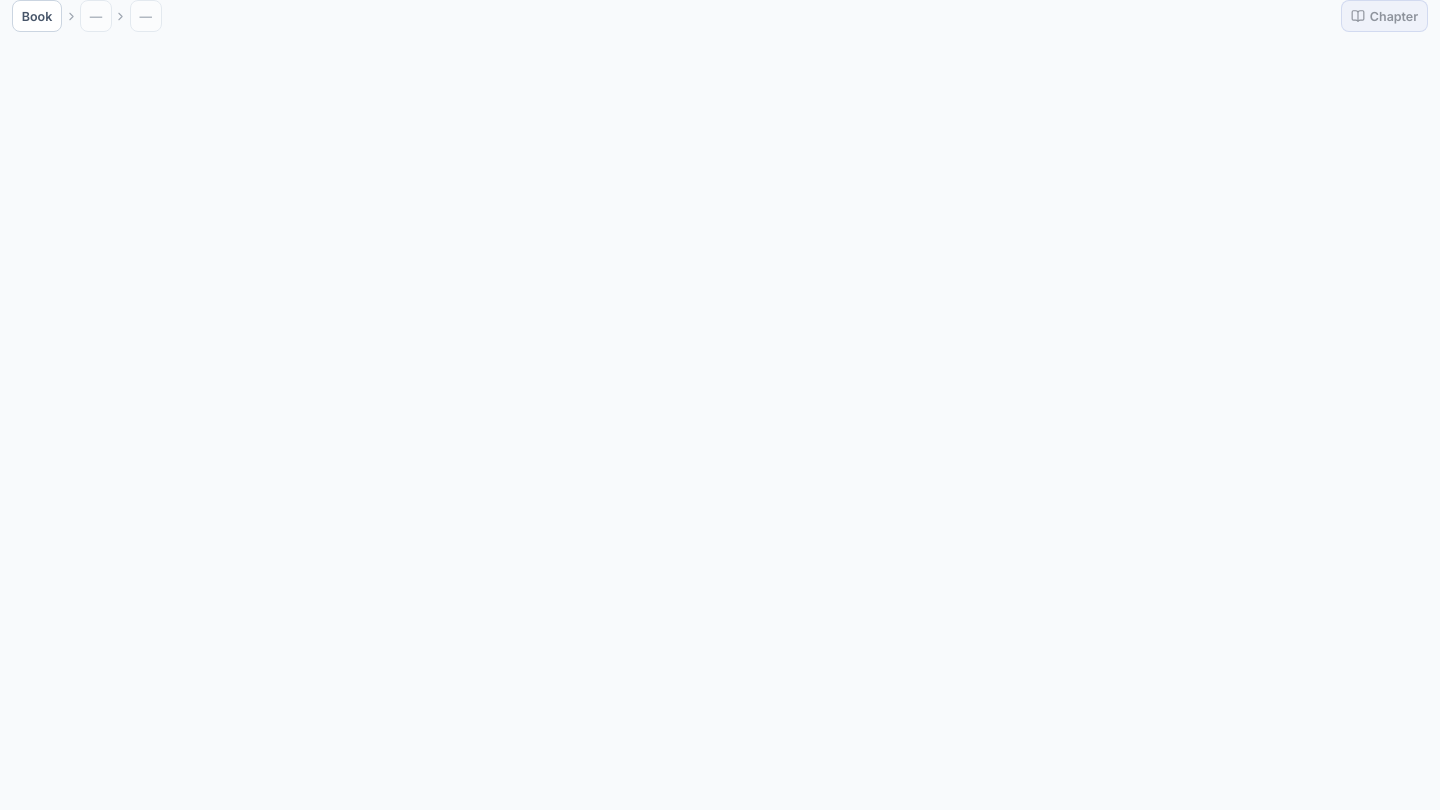
Test case: ScriptureNavigator › lists the 39 Old Testament books, then 27 in the New
Click the button "Book". click: (37, 16)
box: x1=12 y1=0 x2=62 y2=32
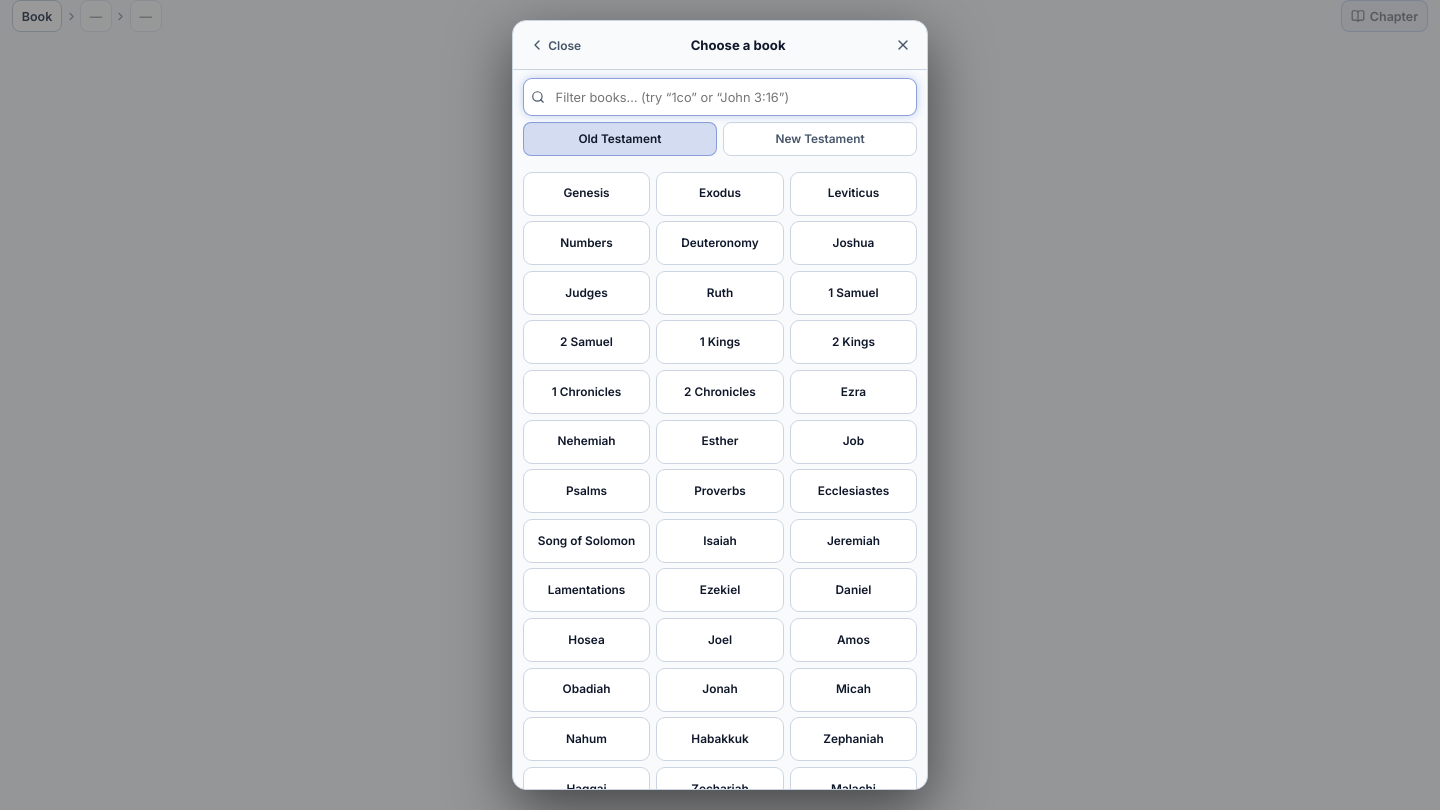
Expected: the number of buttons "Genesis" is 39
Expected: the button with aria-label "genesis, 50 chapters" is shown, x1=523 y1=172 x2=650 y2=216
Click the button "New Testament". click: (820, 139)
box: x1=723 y1=122 x2=917 y2=156
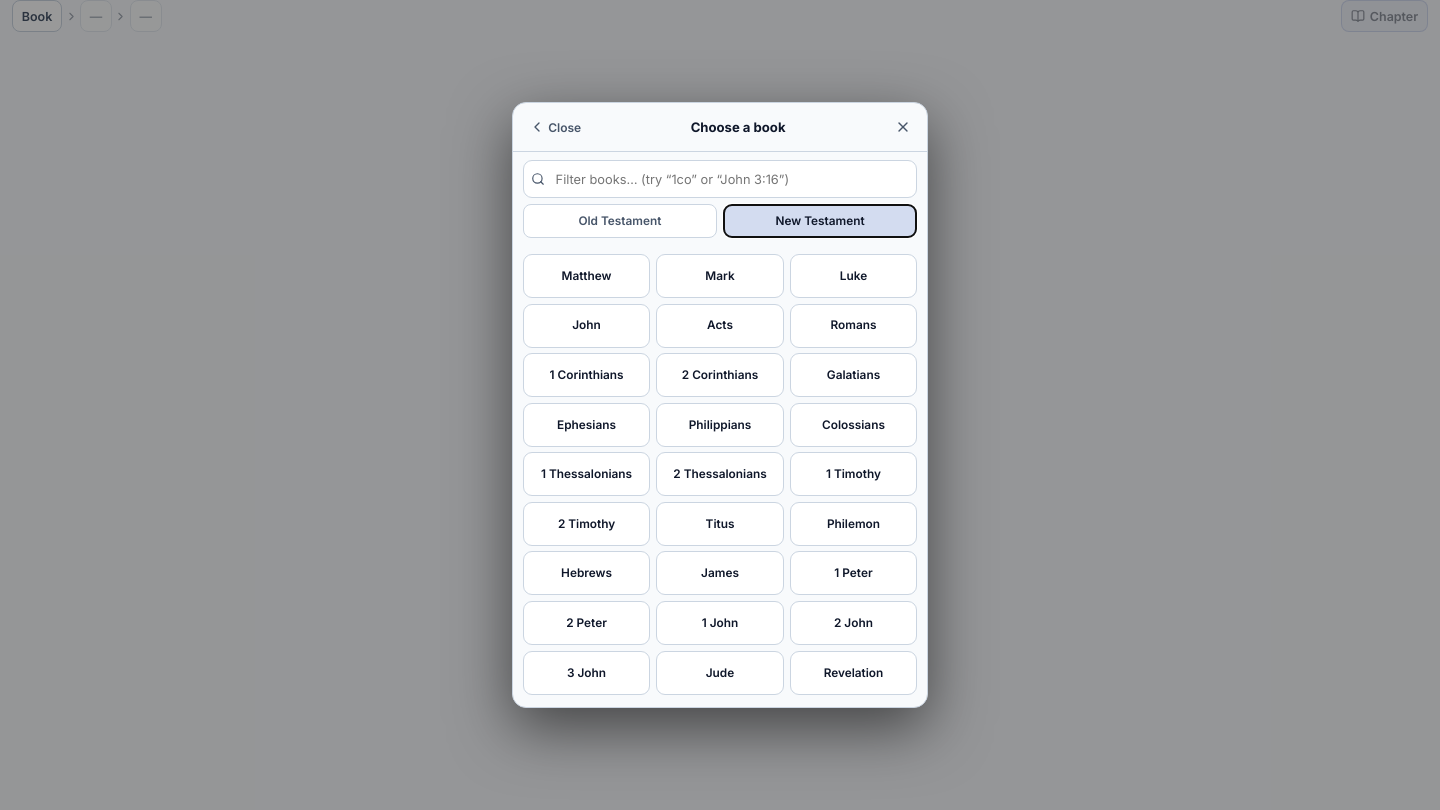
Expected: the number of buttons "Matthew" is 27
